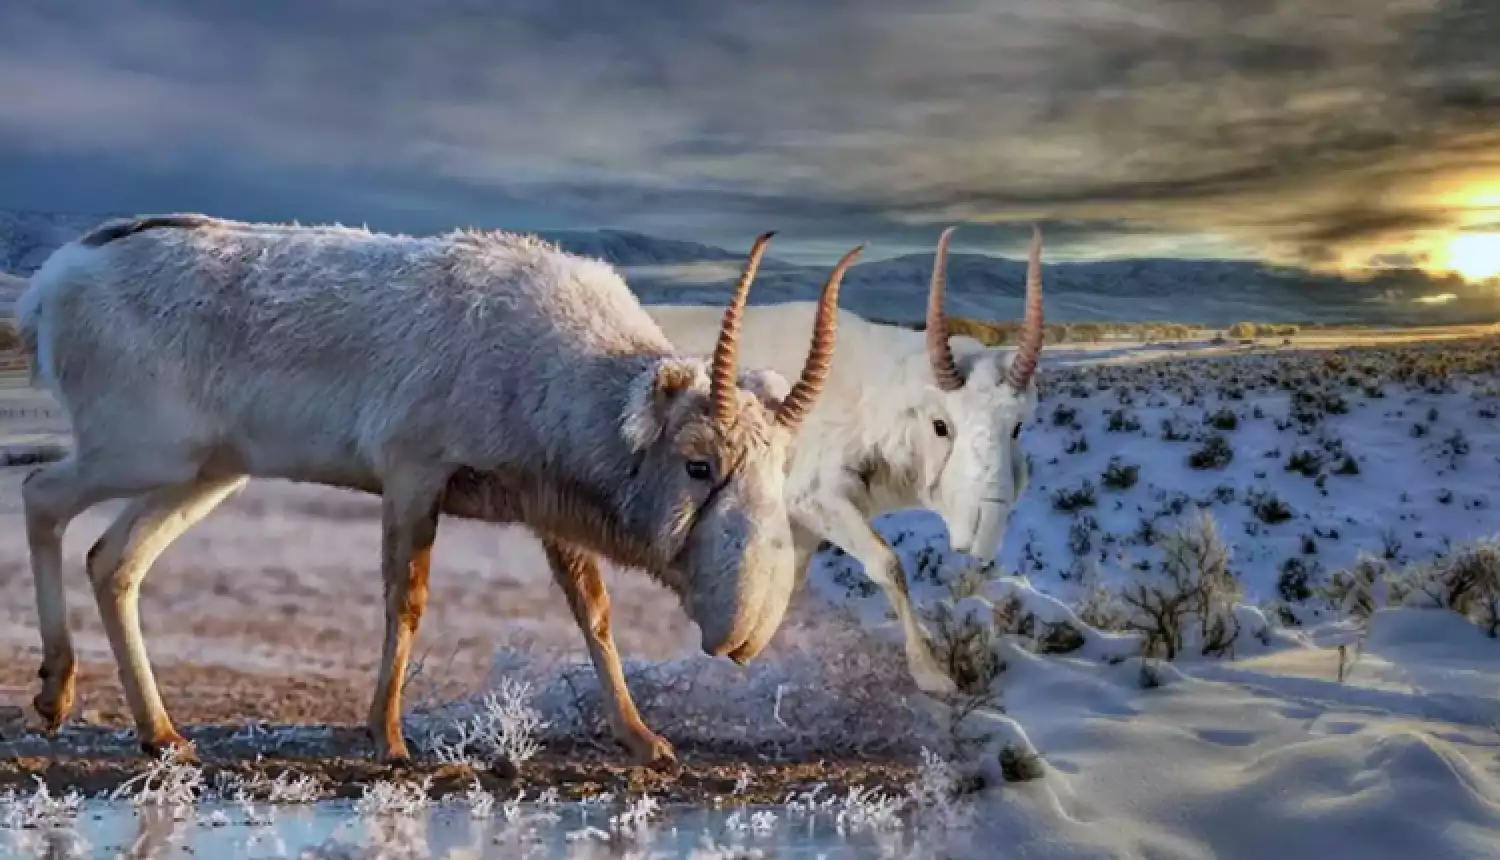saiga: (16, 199, 874, 809), (560, 217, 1058, 703)
